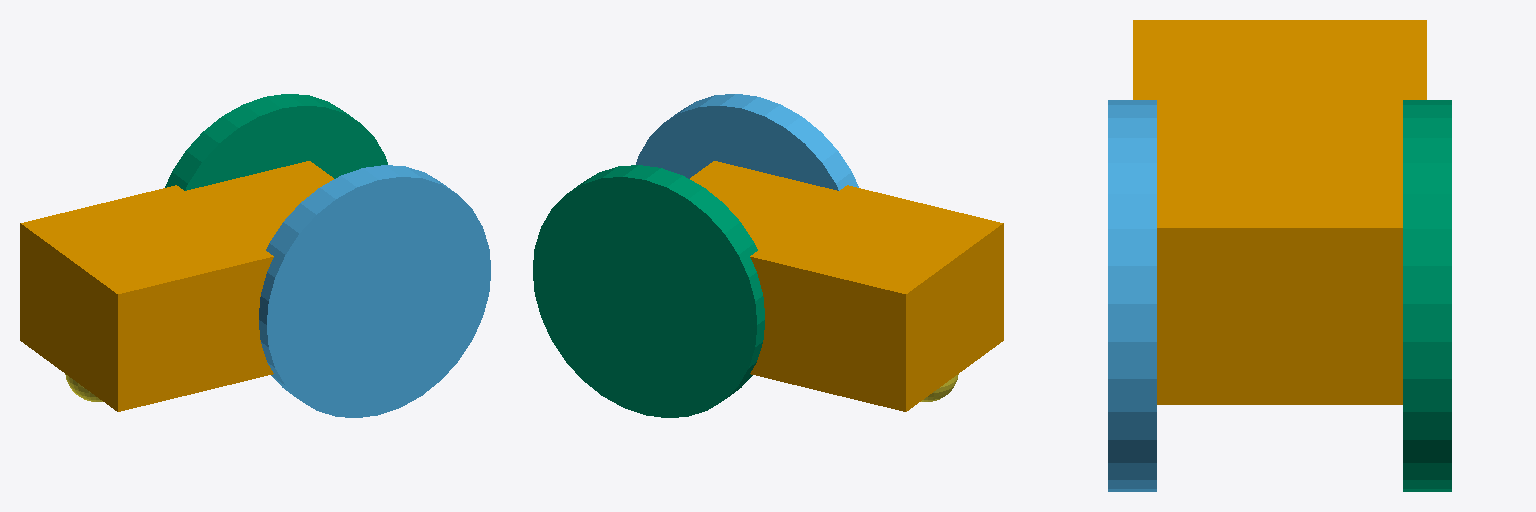
robot.urdf — simple_diff_drive_agv:
<?xml version="1.0"?>
<robot name="simple_diff_drive_agv">

  <!-- Base Link -->
  <link name="base_link">
    <visual>
      <geometry>
        <box size="0.5 0.3 0.2"/> <!-- dimensions of the base -->
      </geometry>
    </visual>
    <collision>
      <geometry>
        <box size="0.5 0.3 0.2"/>
      </geometry>
    </collision>
  </link>

  <!-- Left Wheel -->
  <link name="left_wheel">
    <visual>
      <geometry>
        <cylinder radius="0.2" length="0.05"/> <!-- wheel dimensions -->
      </geometry>
    </visual>
    <collision>
      <geometry>
        <cylinder radius="0.2" length="0.05"/>
      </geometry>
    </collision>
  </link>

  <!-- Right Wheel -->
  <link name="right_wheel">>
    <visual>
      <geometry>
        <cylinder radius="0.2" length="0.05"/>
      </geometry>
    </visual>
    <collision>
      <geometry>
        <cylinder radius="0.2" length="0.05"/>
      </geometry>
    </collision>
  </link>

  <!-- Caster Wheel -->
  <link name="caster_wheel">
    <visual>
      <geometry>
        <sphere radius="0.05"/> <!-- caster wheel size -->
      </geometry>
    </visual>
    <collision>
      <geometry>
        <sphere radius="0.05"/>
      </geometry>
    </collision>
  </link>

  <!-- Joints -->
  <joint name="left_wheel_joint" type="continuous">
    <parent link="base_link"/>
    <child link="left_wheel"/>
    <origin xyz="0.2 -0.15 0" rpy="-1.57079632679 0 0"/> <!-- position and orientation -->
    <axis xyz="0 0 1"/> <!-- rotation axis -->
  </joint>

  <joint name="right_wheel_joint" type="continuous">
    <parent link="base_link"/>
    <child link="right_wheel"/>
    <origin xyz="0.2 0.15 0" rpy="-1.57079632679 0 0"/>
    <axis xyz="0 0 1"/>
  </joint>

  <joint name="caster_wheel_joint" type="fixed">
    <parent link="base_link"/>
    <child link="caster_wheel"/>
    <origin xyz="-0.2 0 -0.1" rpy="0 0 0"/> <!-- rear-mounted caster wheel -->
  </joint>

</robot>

--- Render facts (derived) ---
3 views of the same robot in one strip: view 1: azimuth 30°, elevation 25°; view 2: azimuth 150°, elevation 25°; view 3: azimuth 270°, elevation 25° (orthographic).
Model simple_diff_drive_agv with 4 links and 3 joints (2 continuous, 1 fixed), rooted at base_link, posed every joint at zero.
Visible links, largest first — view 1: base_link, left_wheel, right_wheel; view 2: base_link, right_wheel, left_wheel; view 3: base_link, left_wheel, right_wheel.
Link boxes in pixels (x1,y1,x2,y2): base_link: [20, 161, 333, 411]; left_wheel: [259, 165, 490, 417]; right_wheel: [165, 94, 387, 190]; base_link: [690, 161, 1003, 411]; right_wheel: [533, 165, 764, 417]; left_wheel: [636, 94, 858, 190]; base_link: [1133, 20, 1426, 404]; left_wheel: [1108, 100, 1156, 491]; right_wheel: [1403, 100, 1451, 491].
Size in the robot's own frame: 0.65 by 0.35 by 0.4 metres.
Geometry: primitives only (box / cylinder / sphere), no mesh files.